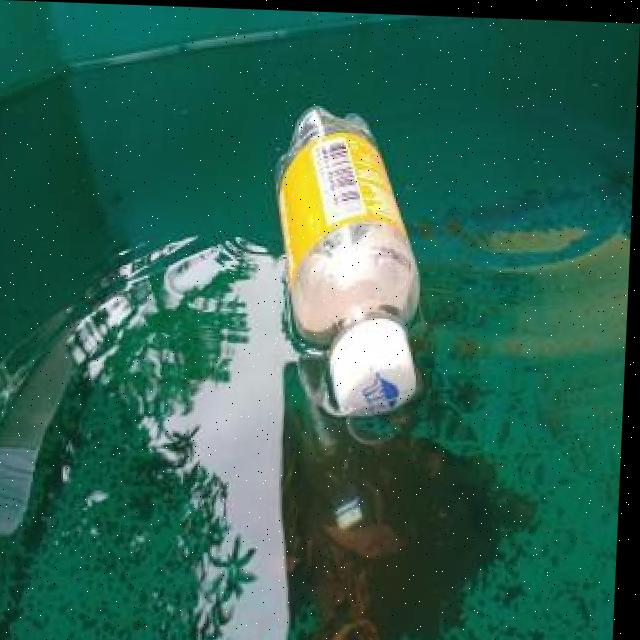bottle: (266, 102, 433, 421)
